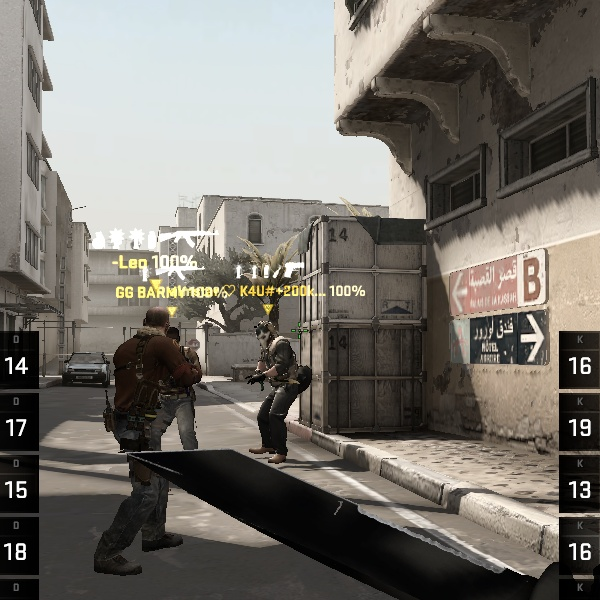t_body: (75, 302, 229, 567), (237, 318, 314, 463)
t_head: (136, 307, 181, 348), (251, 318, 282, 349)
